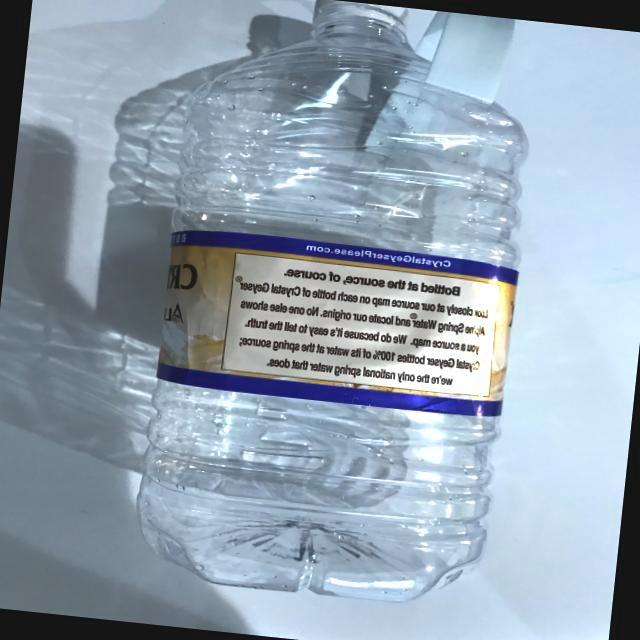plastic: (103, 0, 583, 637)
